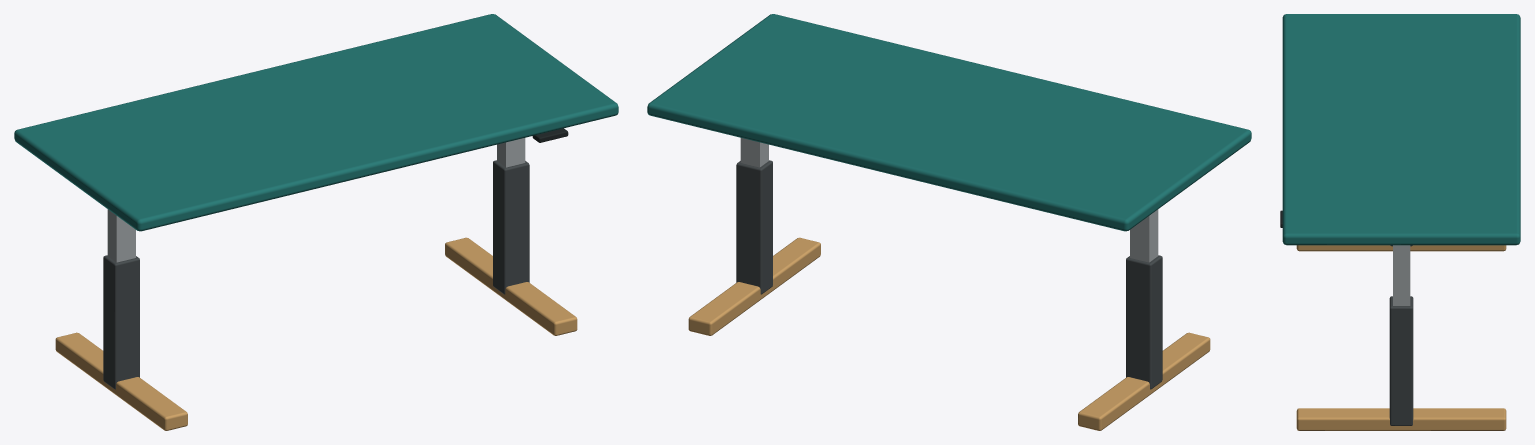
Rendered from desk_electric_lift-72ce58eaadcf.glb.
3 renders of one model, left to right at view 1: azimuth 30°, elevation 25°; view 2: azimuth 150°, elevation 25°; view 3: azimuth 270°, elevation 25°, orthographic. The views are drawn at different scales.
Parts seen in each view (by area): view 1: surface_teal, surface_graphite, surface_brass, surface_steel; view 2: surface_teal, surface_graphite, surface_brass, surface_steel; view 3: surface_teal, surface_brass, surface_graphite, surface_steel.
Boxes of the visible parts, bbox=[...] form: surface_teal: bbox=[14, 14, 618, 231]; surface_graphite: bbox=[103, 160, 529, 389]; surface_brass: bbox=[55, 237, 577, 430]; surface_steel: bbox=[107, 138, 525, 262]; surface_teal: bbox=[647, 14, 1251, 231]; surface_graphite: bbox=[736, 160, 1162, 389]; surface_brass: bbox=[688, 237, 1210, 430]; surface_steel: bbox=[740, 138, 1158, 262]; surface_teal: bbox=[1282, 14, 1520, 245]; surface_brass: bbox=[1296, 245, 1506, 430]; surface_graphite: bbox=[1389, 245, 1413, 425]; surface_steel: bbox=[1393, 245, 1410, 305].
Size of the model in its own units: 1.68 by 0.75 by 0.7668.
